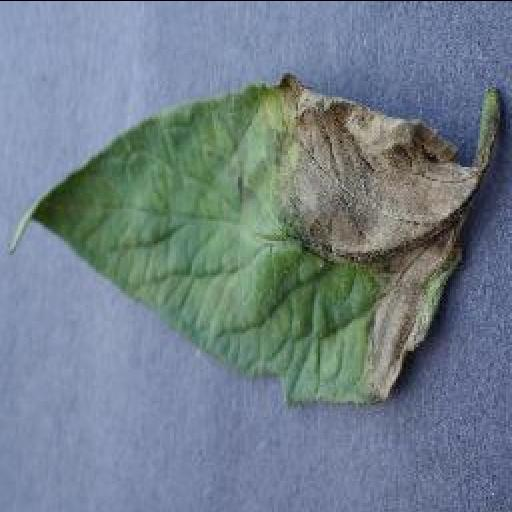disease_tomato: (3, 70, 501, 414)
